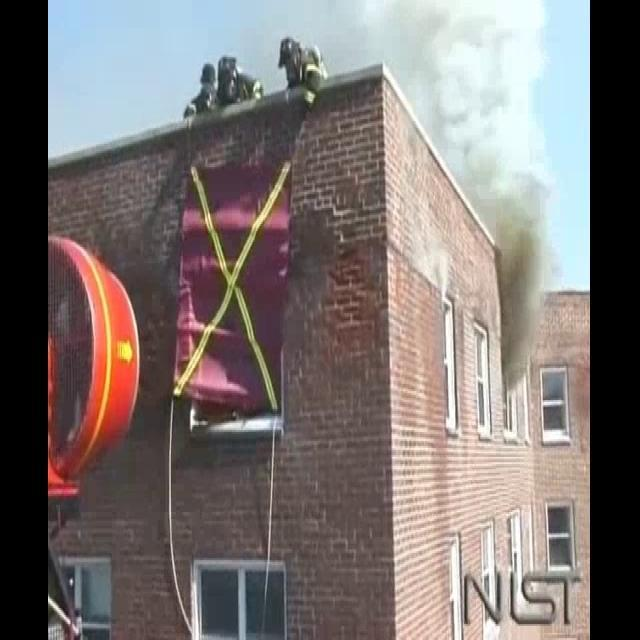Smoke: (332, 0, 562, 395)
